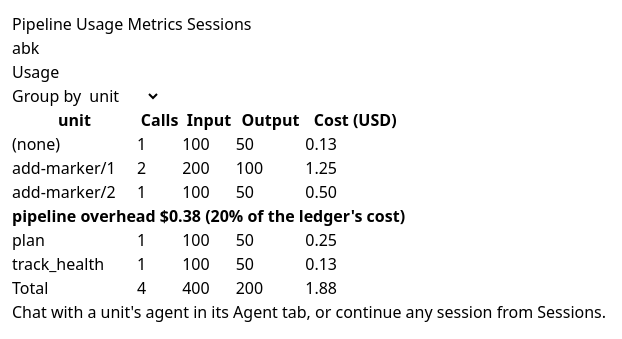
Scenario: the usage page › asks the report for another grouping when one is chosen
Check: the table is shown, box top-left (12, 108), bottom-right (405, 300)
Select "node" in the dropdown labelled "Group by": (123, 96) top-left (85, 84), bottom-right (161, 108)
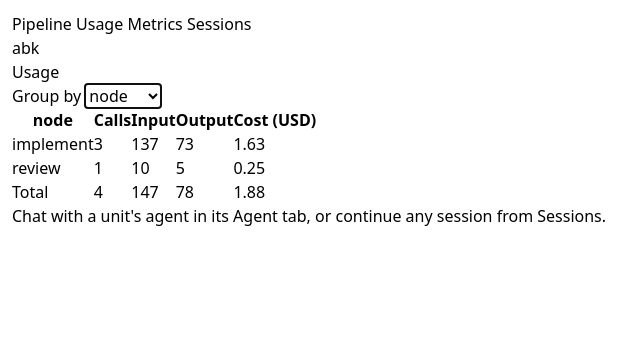
Check: the text "implement" is shown, box top-left (12, 132), bottom-right (94, 156)
